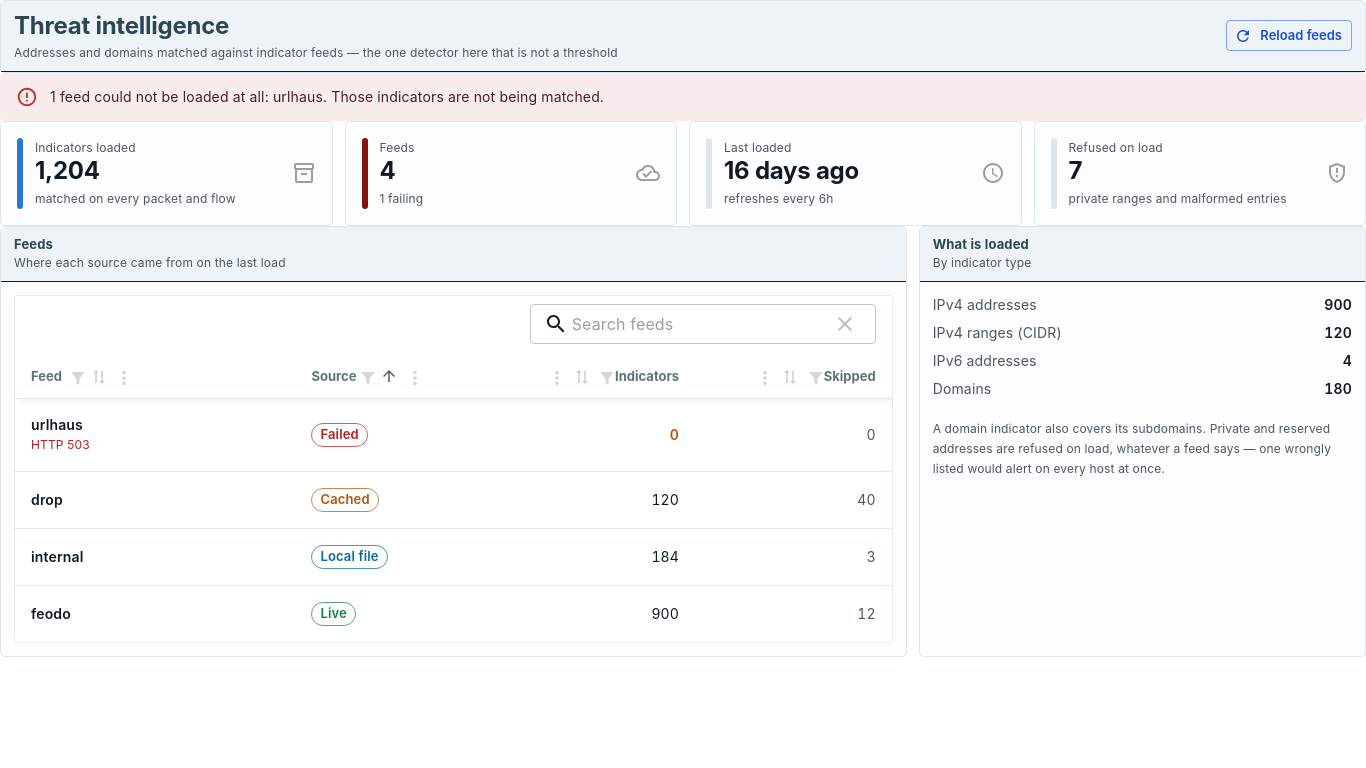
ThreatIntelPage › reloads on demand and reports what came back
Click the button "Reload feeds" at (1289, 36), box [1226,20,1352,51]
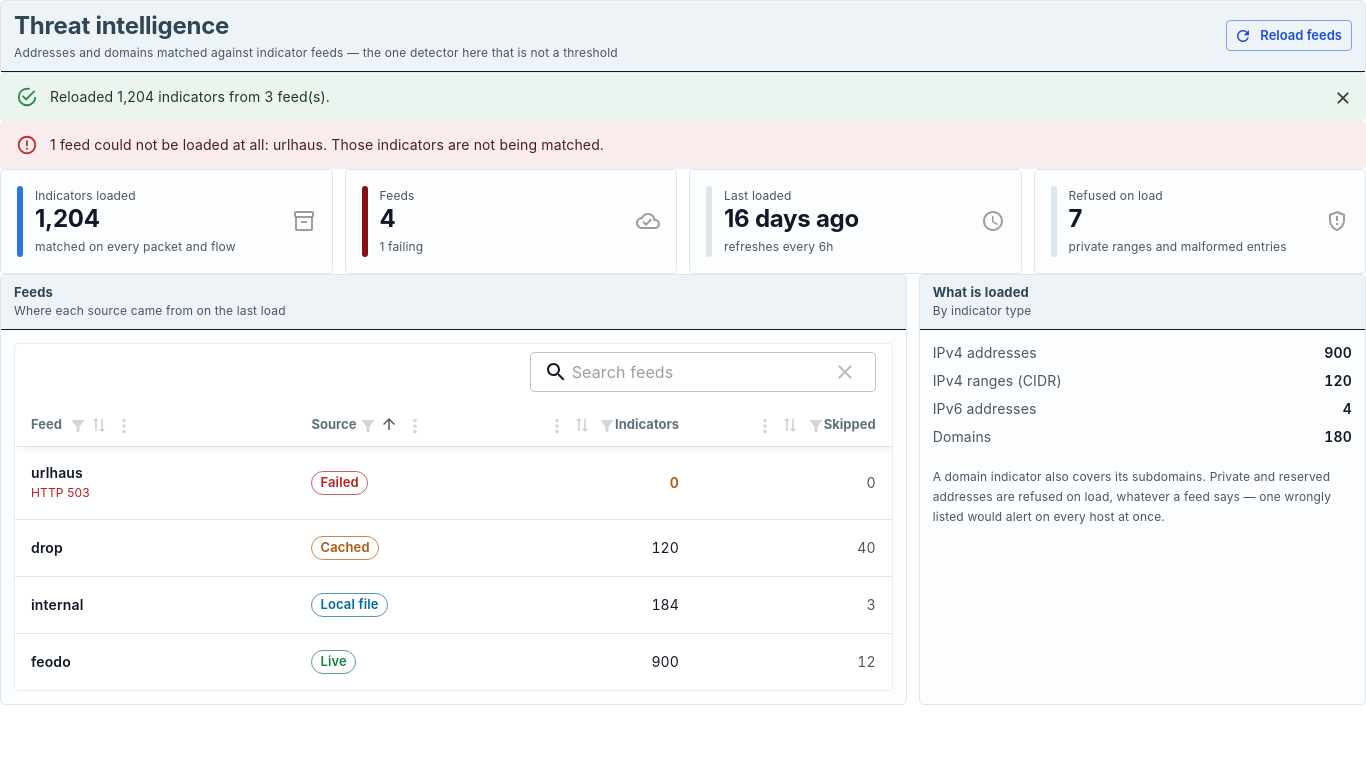
Now the text "Reloaded 1,204 indicators from 3 feed(s)." is shown, box [50,88,330,104]
